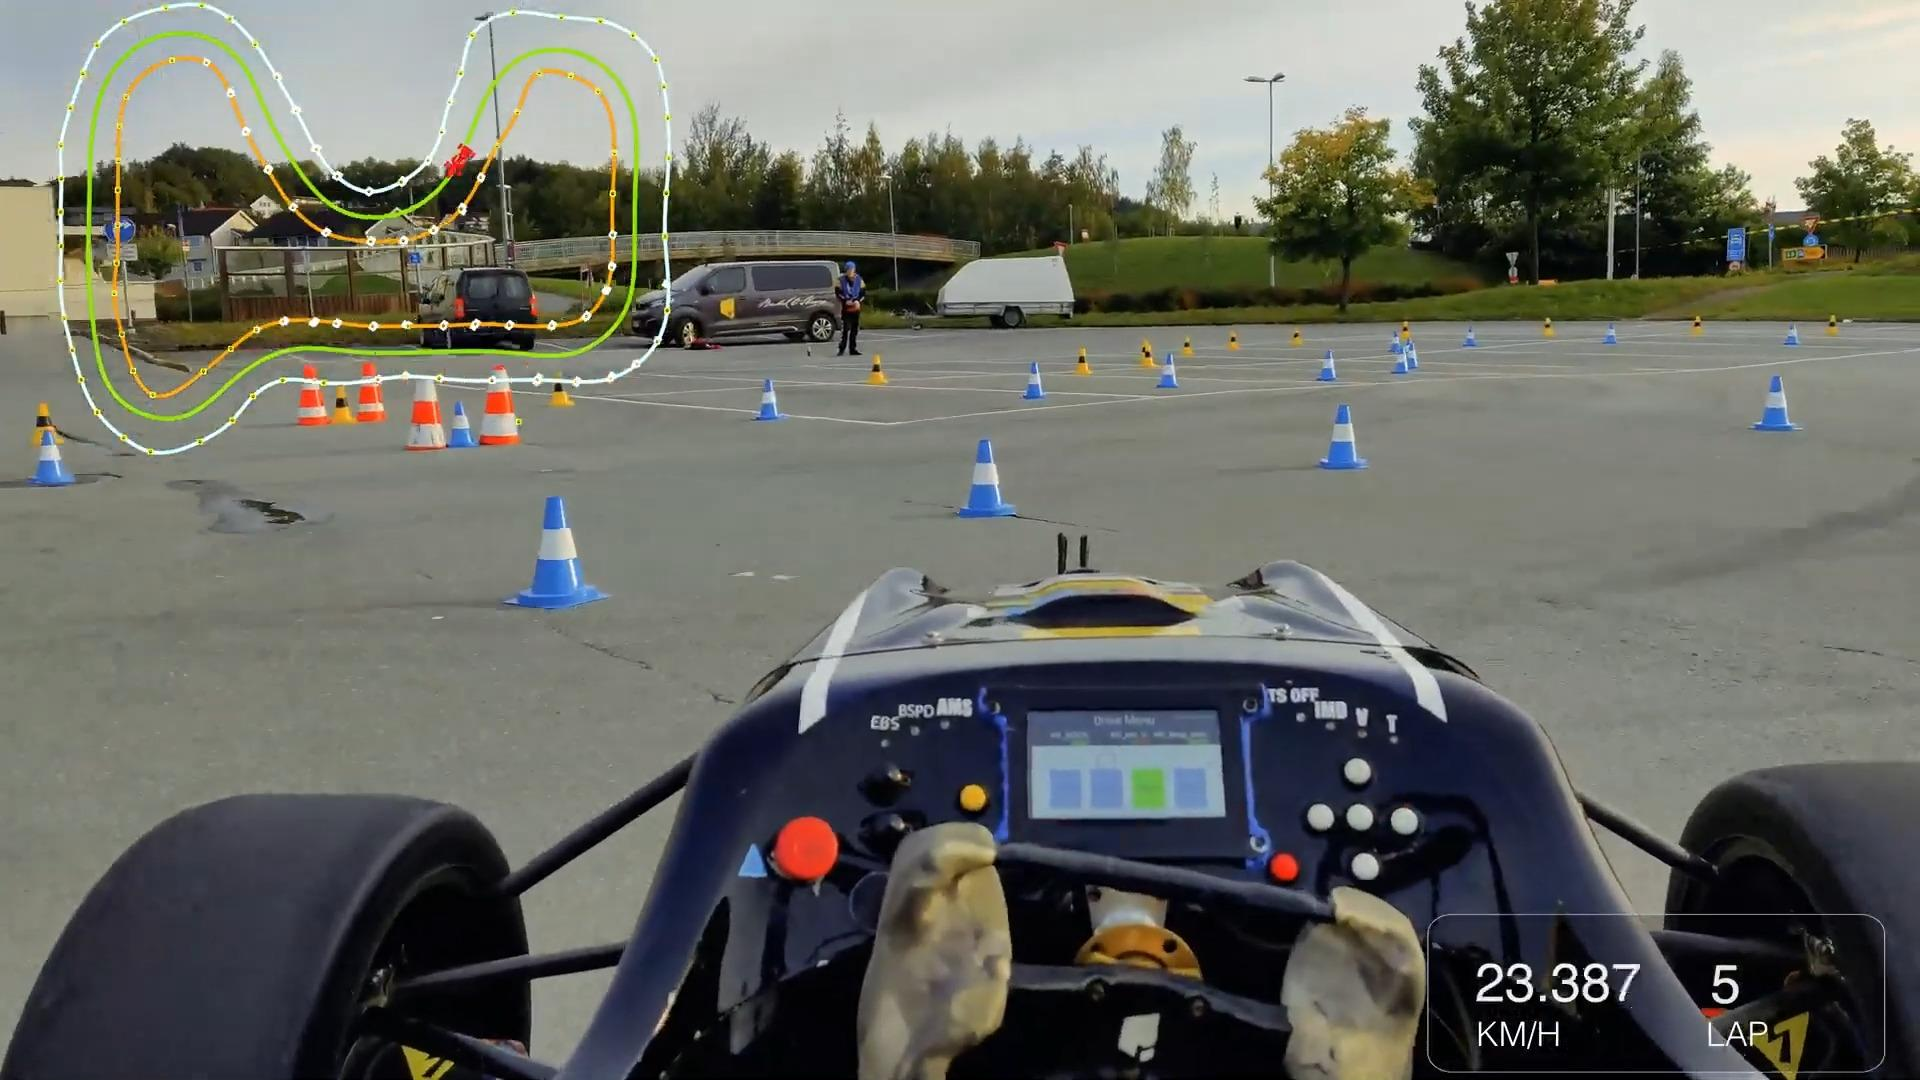blue_cone: (504, 489, 603, 612), (948, 436, 1013, 517), (1321, 402, 1365, 472), (33, 431, 74, 491), (1755, 373, 1795, 434), (756, 378, 785, 422), (447, 402, 473, 450), (1021, 360, 1050, 401), (1155, 352, 1183, 392), (1316, 351, 1340, 384), (1782, 322, 1801, 347), (1390, 348, 1407, 375), (1404, 339, 1419, 369), (1462, 326, 1478, 351), (1602, 320, 1618, 345), (1387, 328, 1400, 353)
large_orange_cone: (479, 365, 520, 447), (405, 372, 446, 450), (294, 363, 328, 426), (357, 361, 388, 426)
yellow_cone: (25, 404, 65, 446), (326, 382, 357, 427), (545, 373, 572, 409), (862, 352, 887, 385), (1075, 348, 1095, 375), (1141, 343, 1156, 369), (1826, 313, 1842, 338), (1182, 336, 1197, 357), (1226, 330, 1242, 351), (1692, 315, 1705, 339), (1402, 319, 1415, 342), (1290, 326, 1304, 345), (1543, 318, 1555, 338)
